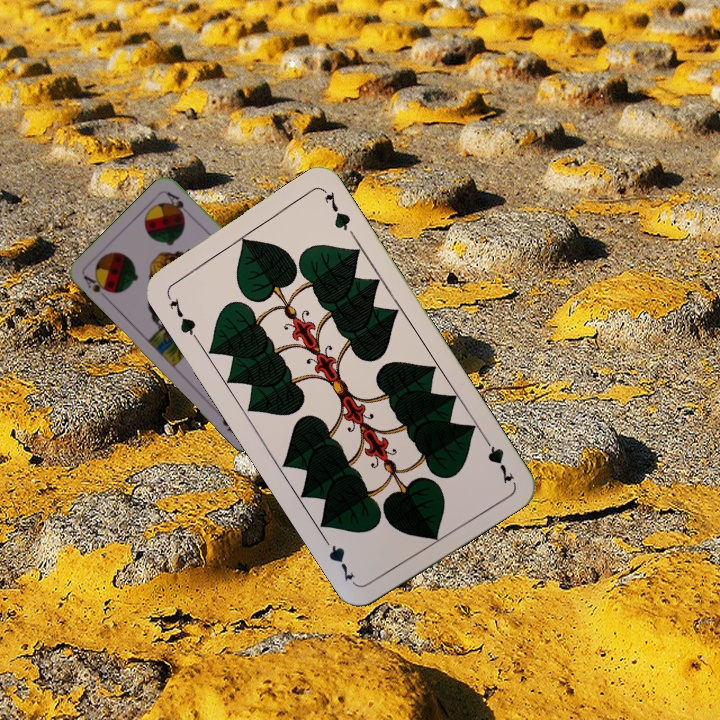G7: (478, 431, 517, 487), (163, 290, 201, 342)
SA: (80, 272, 112, 296)
